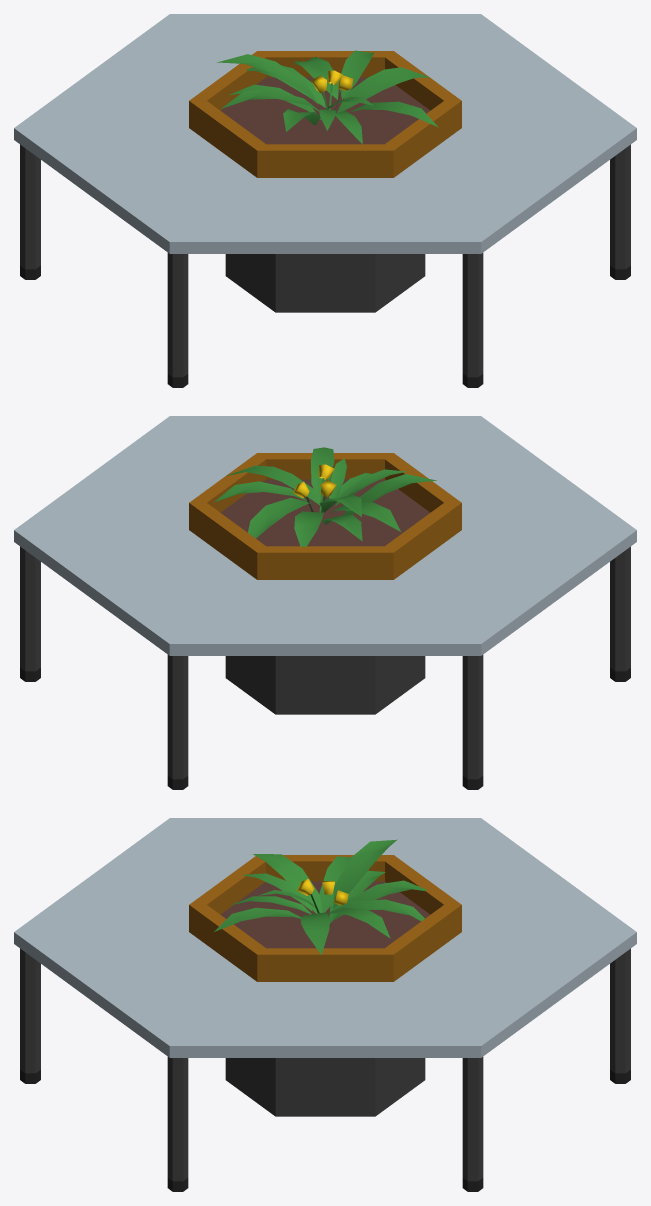
File: banmaytinh.001.fbx
3 views of the same model, one above another, from view 1: azimuth 30°, elevation 25°; view 2: azimuth 150°, elevation 25°; view 3: azimuth 270°, elevation 25° (orthographic).
Visible parts, largest first — view 1: banmaytinh.001; view 2: banmaytinh.001; view 3: banmaytinh.001.
Boxes of the visible parts, x1=… form: banmaytinh.001: x1=14, y1=14, x2=636, y2=387; banmaytinh.001: x1=14, y1=416, x2=636, y2=789; banmaytinh.001: x1=14, y1=818, x2=636, y2=1191.
Bounding box in the file's own units: 482 × 207 × 557.
